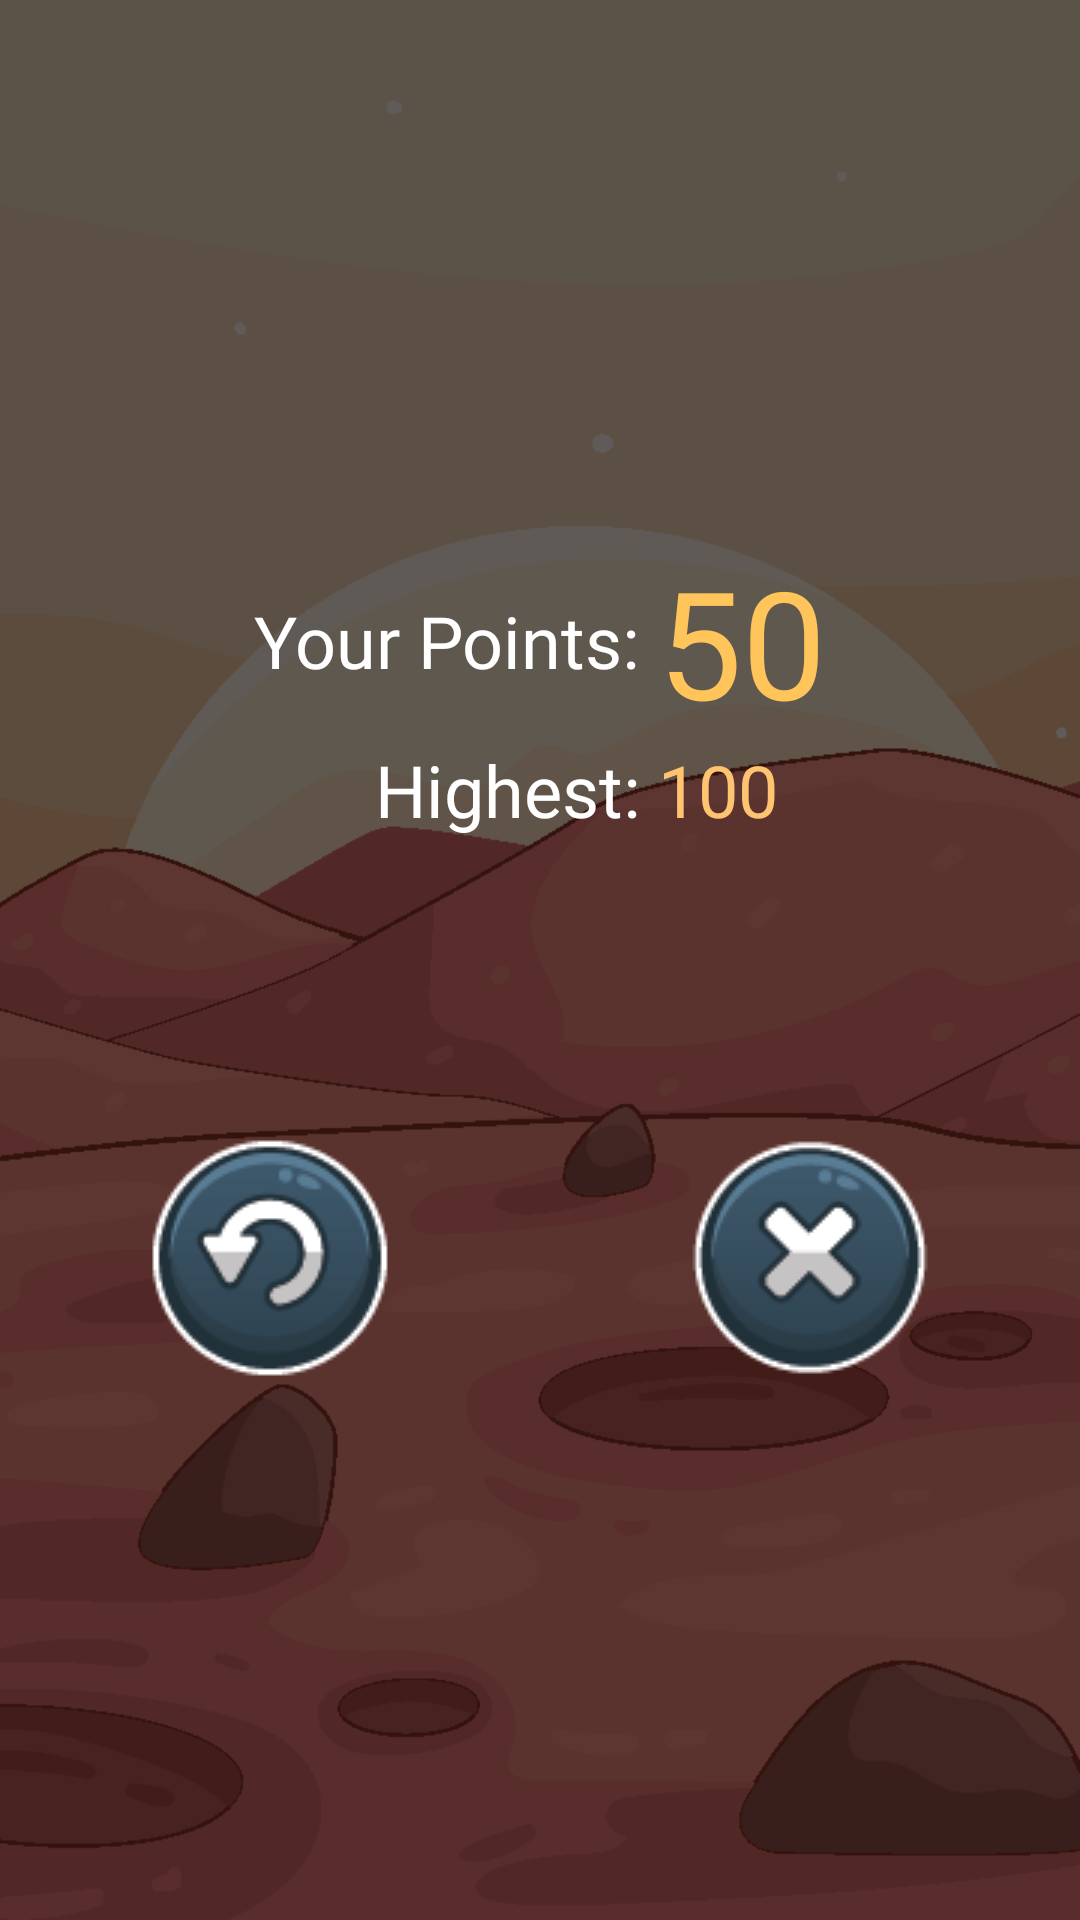

Icons on this 1080x1920 Android screen, each with its box as (x1, y1, x2, y2):
Exit: (690, 1141, 930, 1376)
Restart: (152, 1140, 388, 1376)
